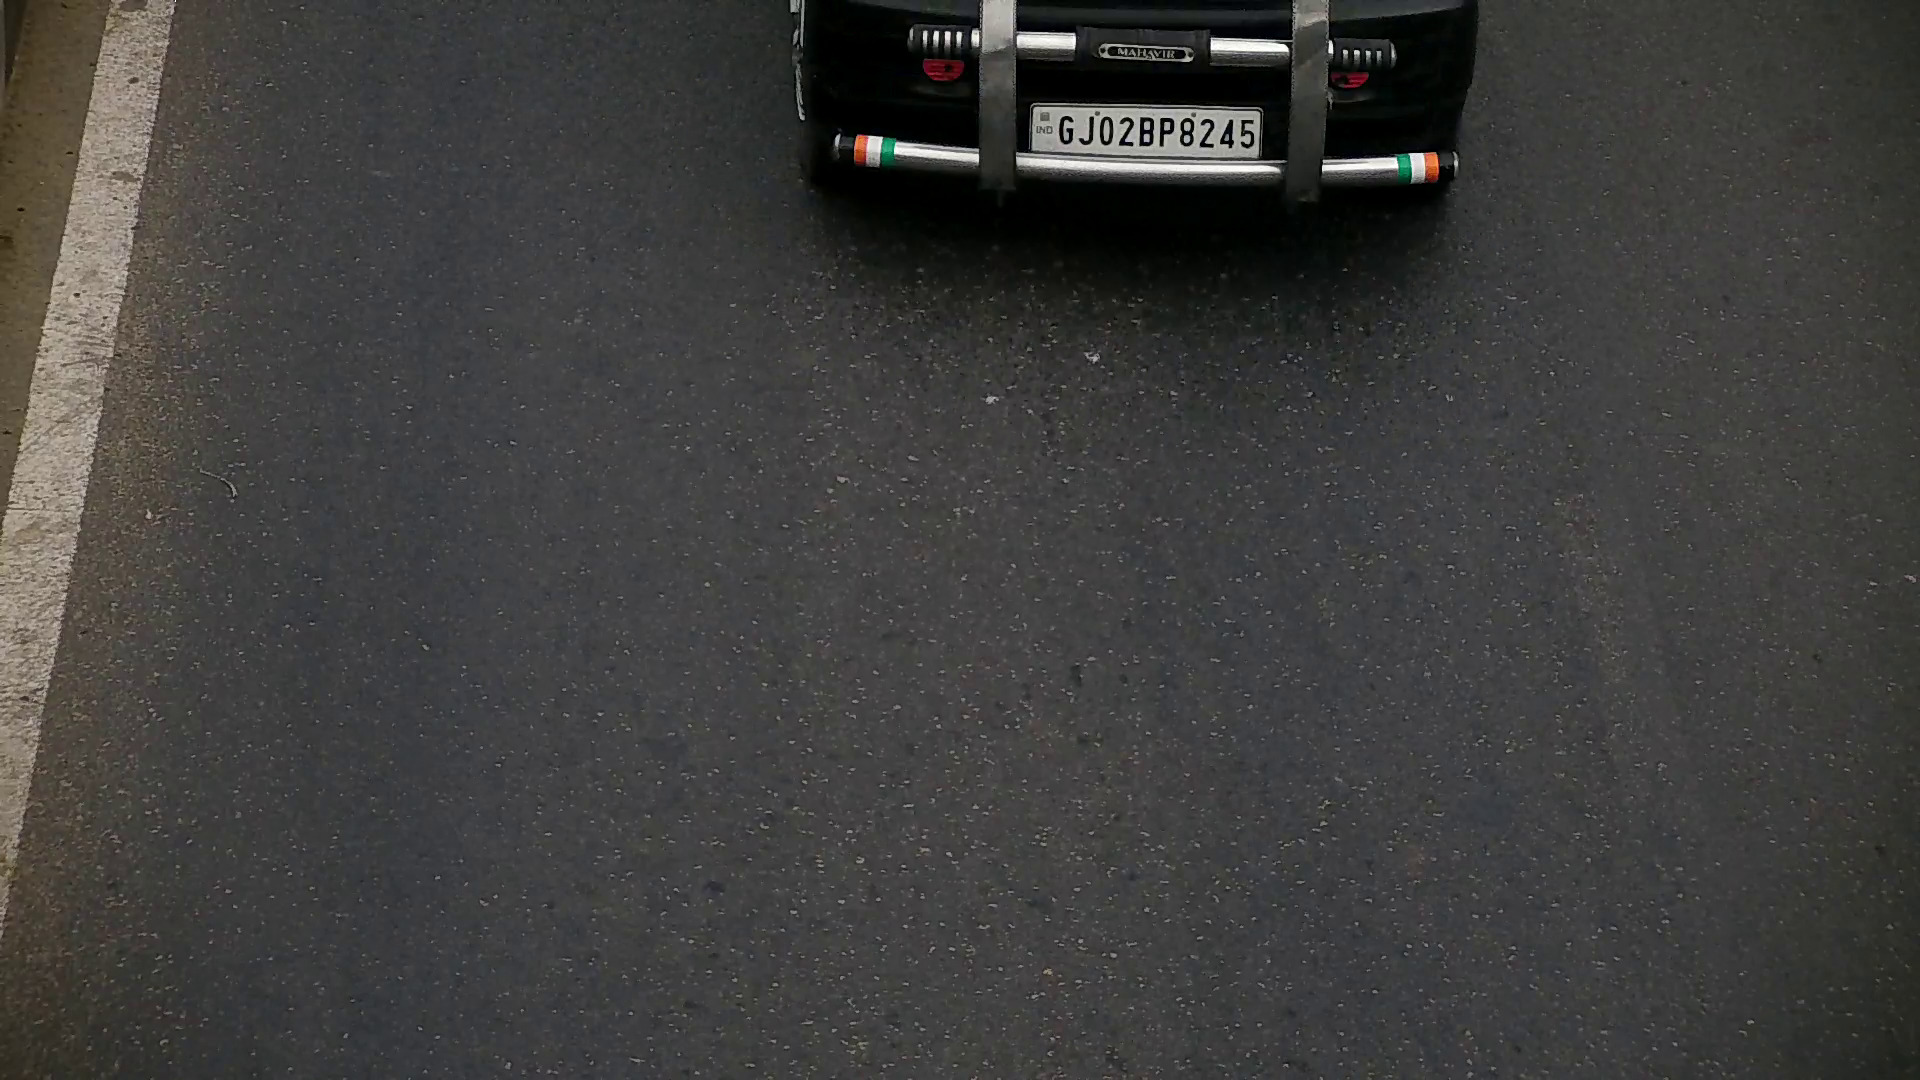numberplate: (1019, 94, 1265, 159)
